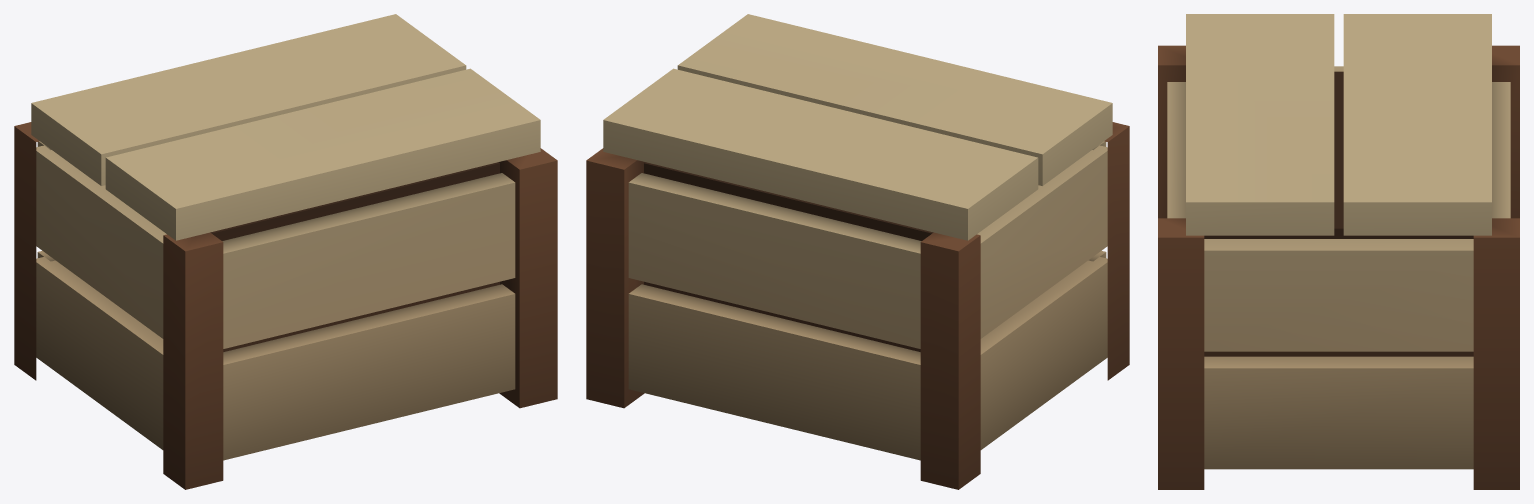
File: drop-crate-low.glb
The picture shows the model from 3 angles, left to right: view 1: azimuth 30°, elevation 25°; view 2: azimuth 150°, elevation 25°; view 3: azimuth 270°, elevation 25°; orthographic projection. The views are drawn at different scales.
Visible parts, largest first — view 1: 0_crate; view 2: 0_crate; view 3: 0_crate.
Boxes of the visible parts, box(x1,y1,x2,y2) form: 0_crate: box(14, 14, 557, 489); 0_crate: box(586, 14, 1129, 489); 0_crate: box(1158, 14, 1519, 489).
Size of the model in its own units: 0.49 by 0.34 by 0.39.
